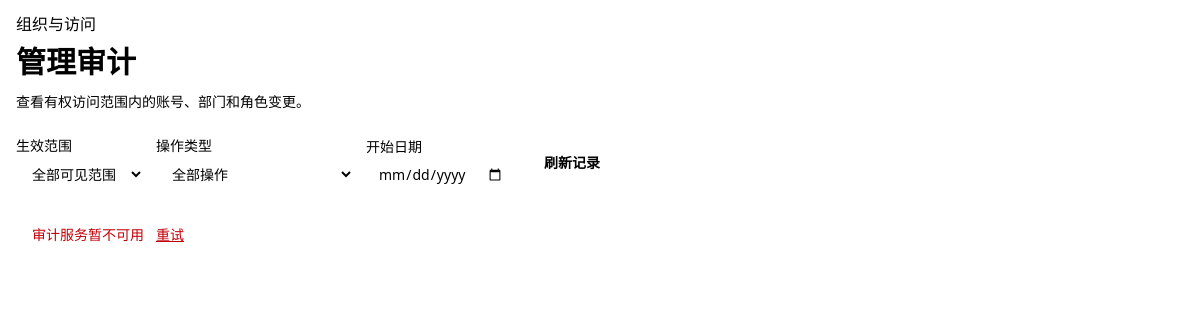
Scenario: 审计查询失败不显示为空记录并可重试
The width and height of the screenshot is (1185, 320).
Expected: the message shows "审计服务暂不可用", [32,225,144,244]
Expected: the text "当前筛选下没有审计记录。" is not shown
Click the button "重试": [170, 235] box [156,225,184,245]
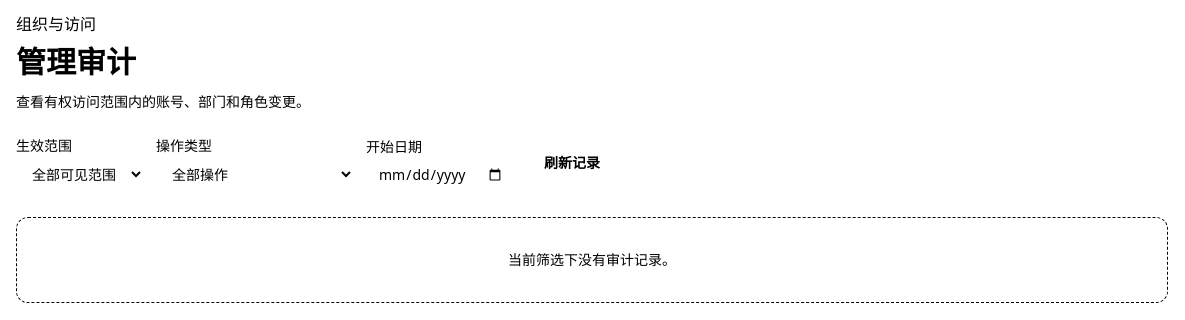
Result: the text "当前筛选下没有审计记录。" is shown at [16,217,1168,303]
